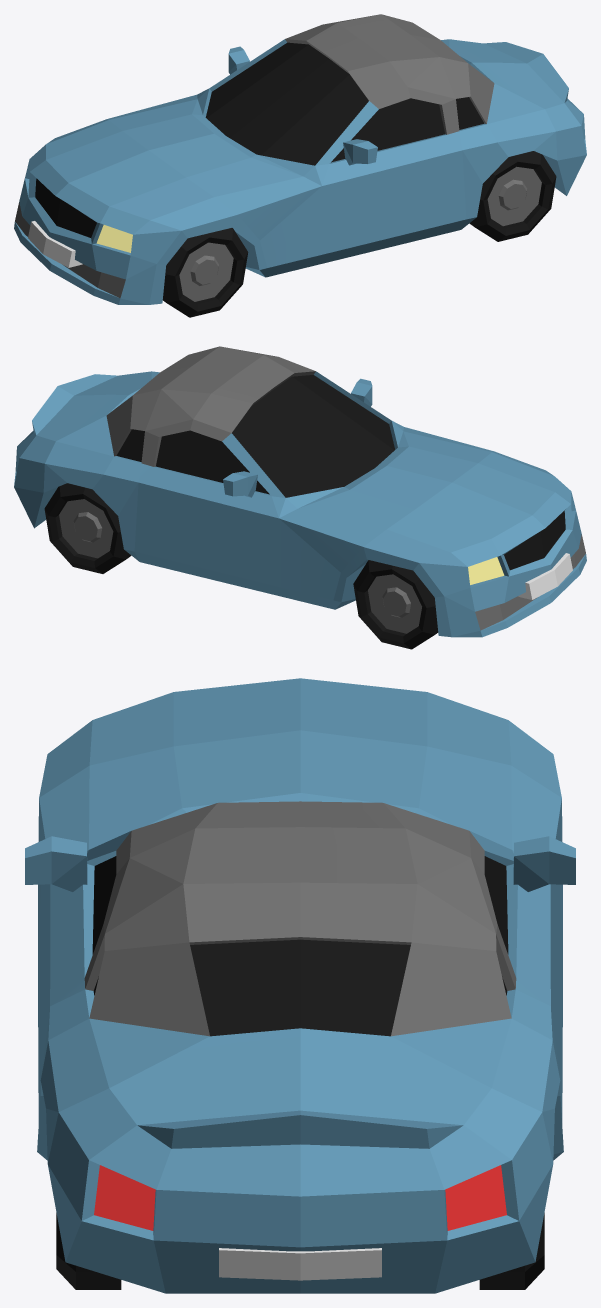
File: car.glb
3 renders of one model, top to bottom at view 1: azimuth 30°, elevation 25°; view 2: azimuth 150°, elevation 25°; view 3: azimuth 270°, elevation 25°, orthographic. The views are drawn at different scales.
Visible parts, largest first — view 1: Car_6_Blue; view 2: Car_6_Blue; view 3: Car_6_Blue.
Boxes of the visible parts, x1,y1,x2,y2 form: Car_6_Blue: (14,14,586,317); Car_6_Blue: (14,346,586,649); Car_6_Blue: (25,678,575,1293).
Bounding box in the file's own units: 4.58 × 1.52 × 2.13.
4 materials, 4 textured.
